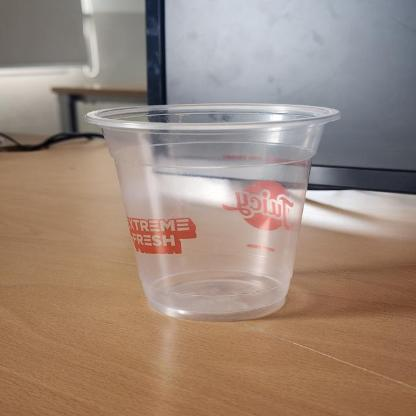Plastic Cup: (83, 101, 348, 321)
